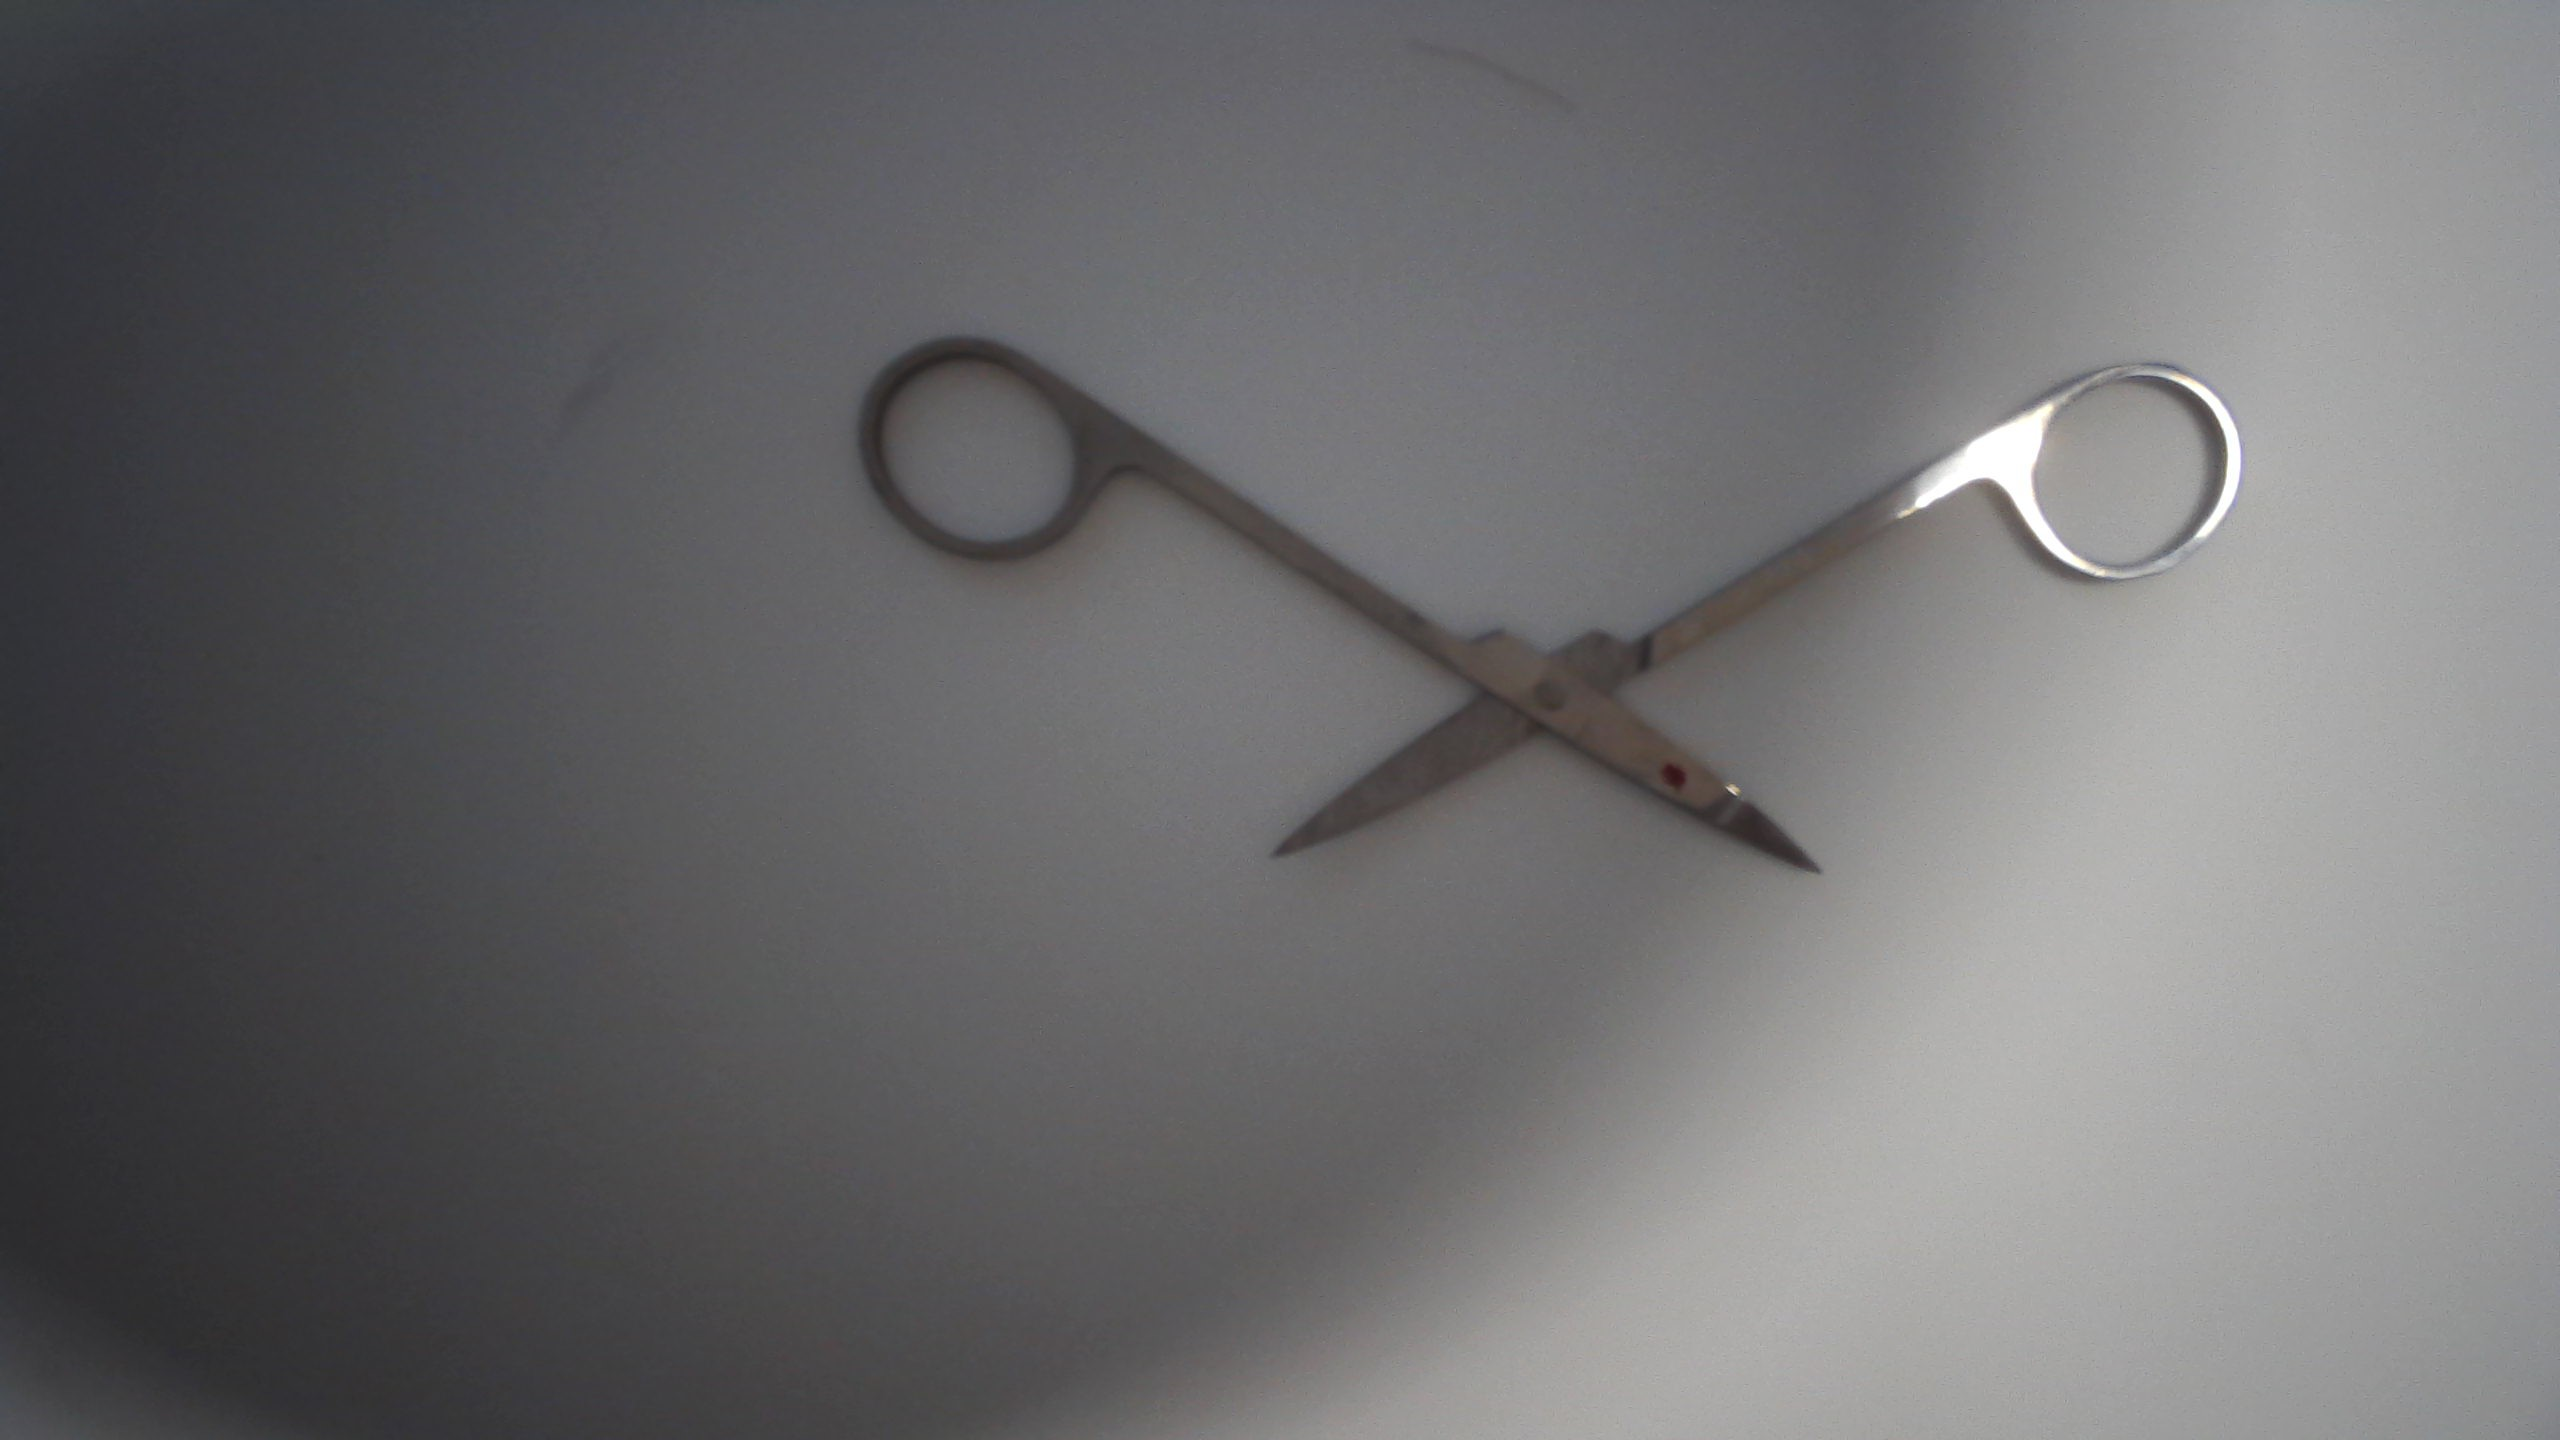Stain: (1656, 751, 1707, 802)
